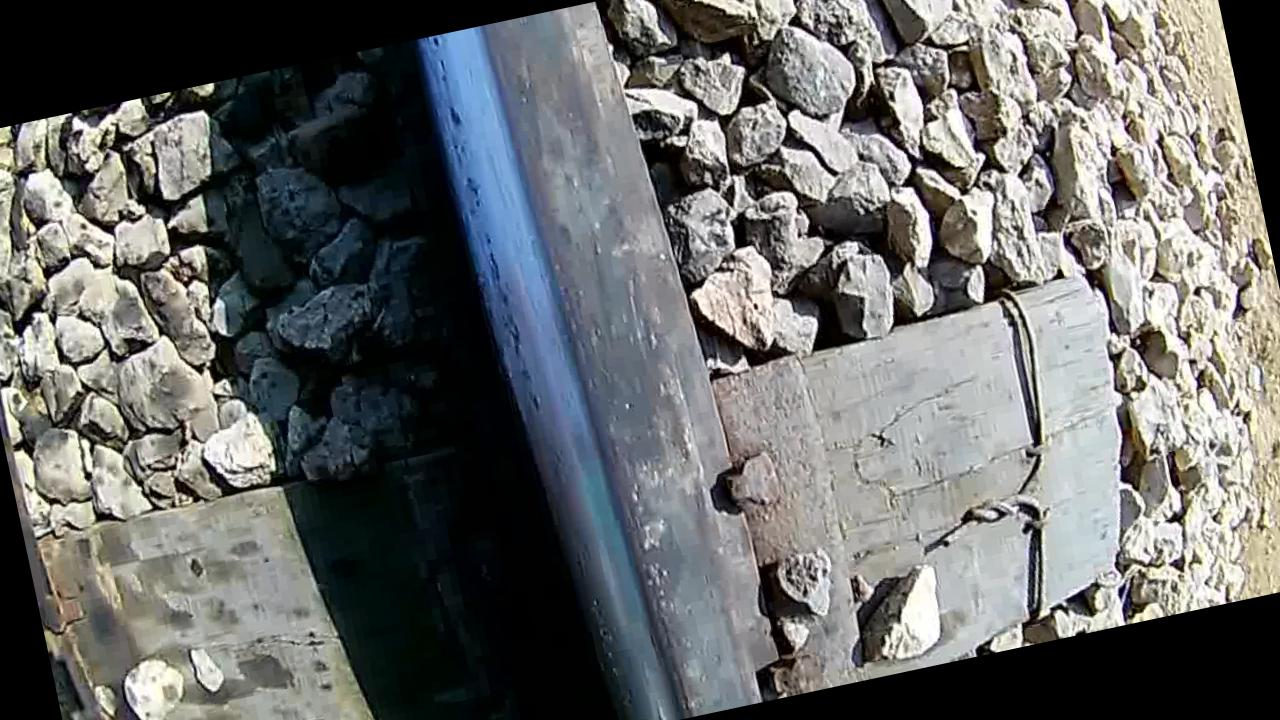crack: (411, 4, 730, 720)
